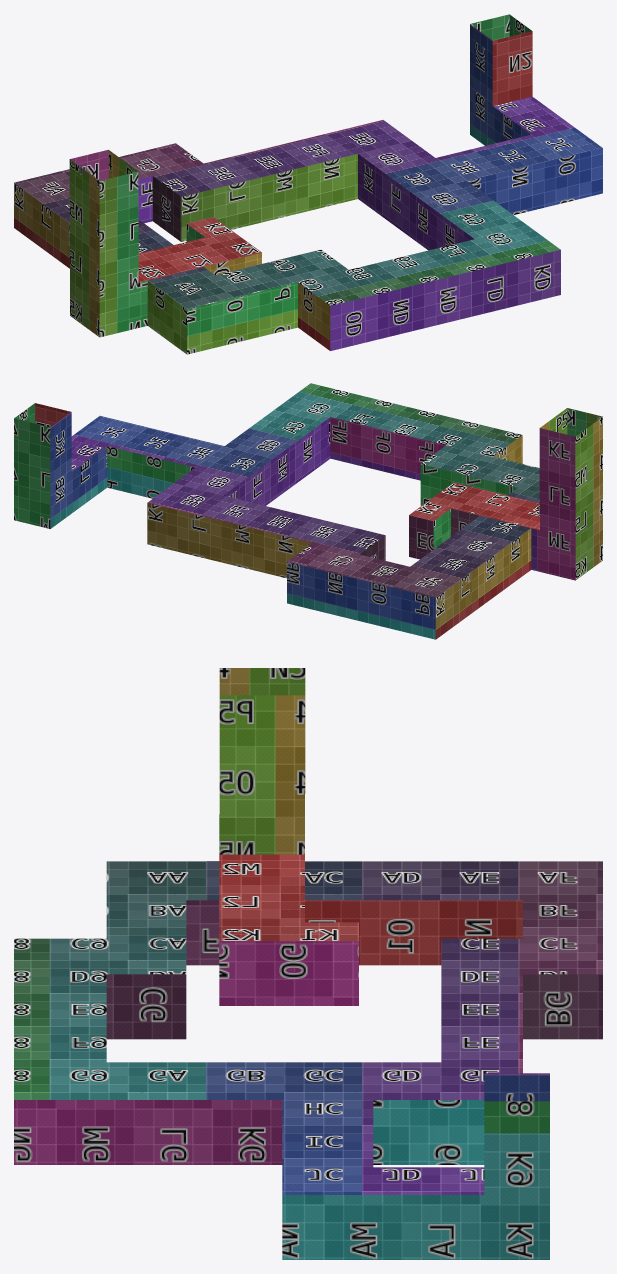
File: Basemant.fbx
3 renders of one model, top to bottom at view 1: azimuth 30°, elevation 25°; view 2: azimuth 150°, elevation 25°; view 3: azimuth 270°, elevation 25°, orthographic. The views are drawn at different scales.
Visible parts, largest first — view 1: Basemant; view 2: Basemant; view 3: Basemant.
Boxes of the visible parts, left/top/right/bottom form: Basemant: left=14, top=14, right=602, bottom=354; Basemant: left=14, top=383, right=602, bottom=639; Basemant: left=14, top=668, right=602, bottom=1259.
Bounding box in the file's own units: 61.4 × 17.49 × 41.6.
